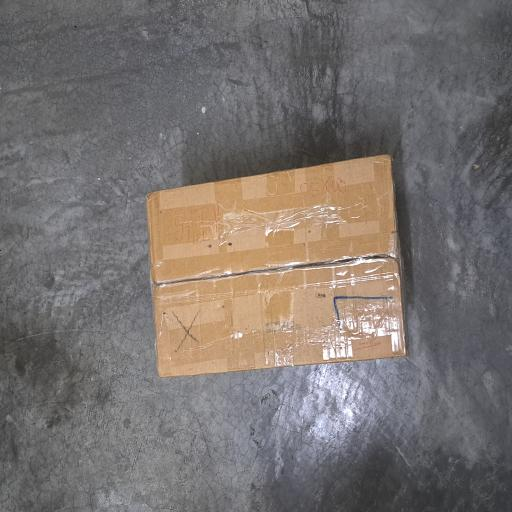cardboard: (97, 196, 271, 512)
